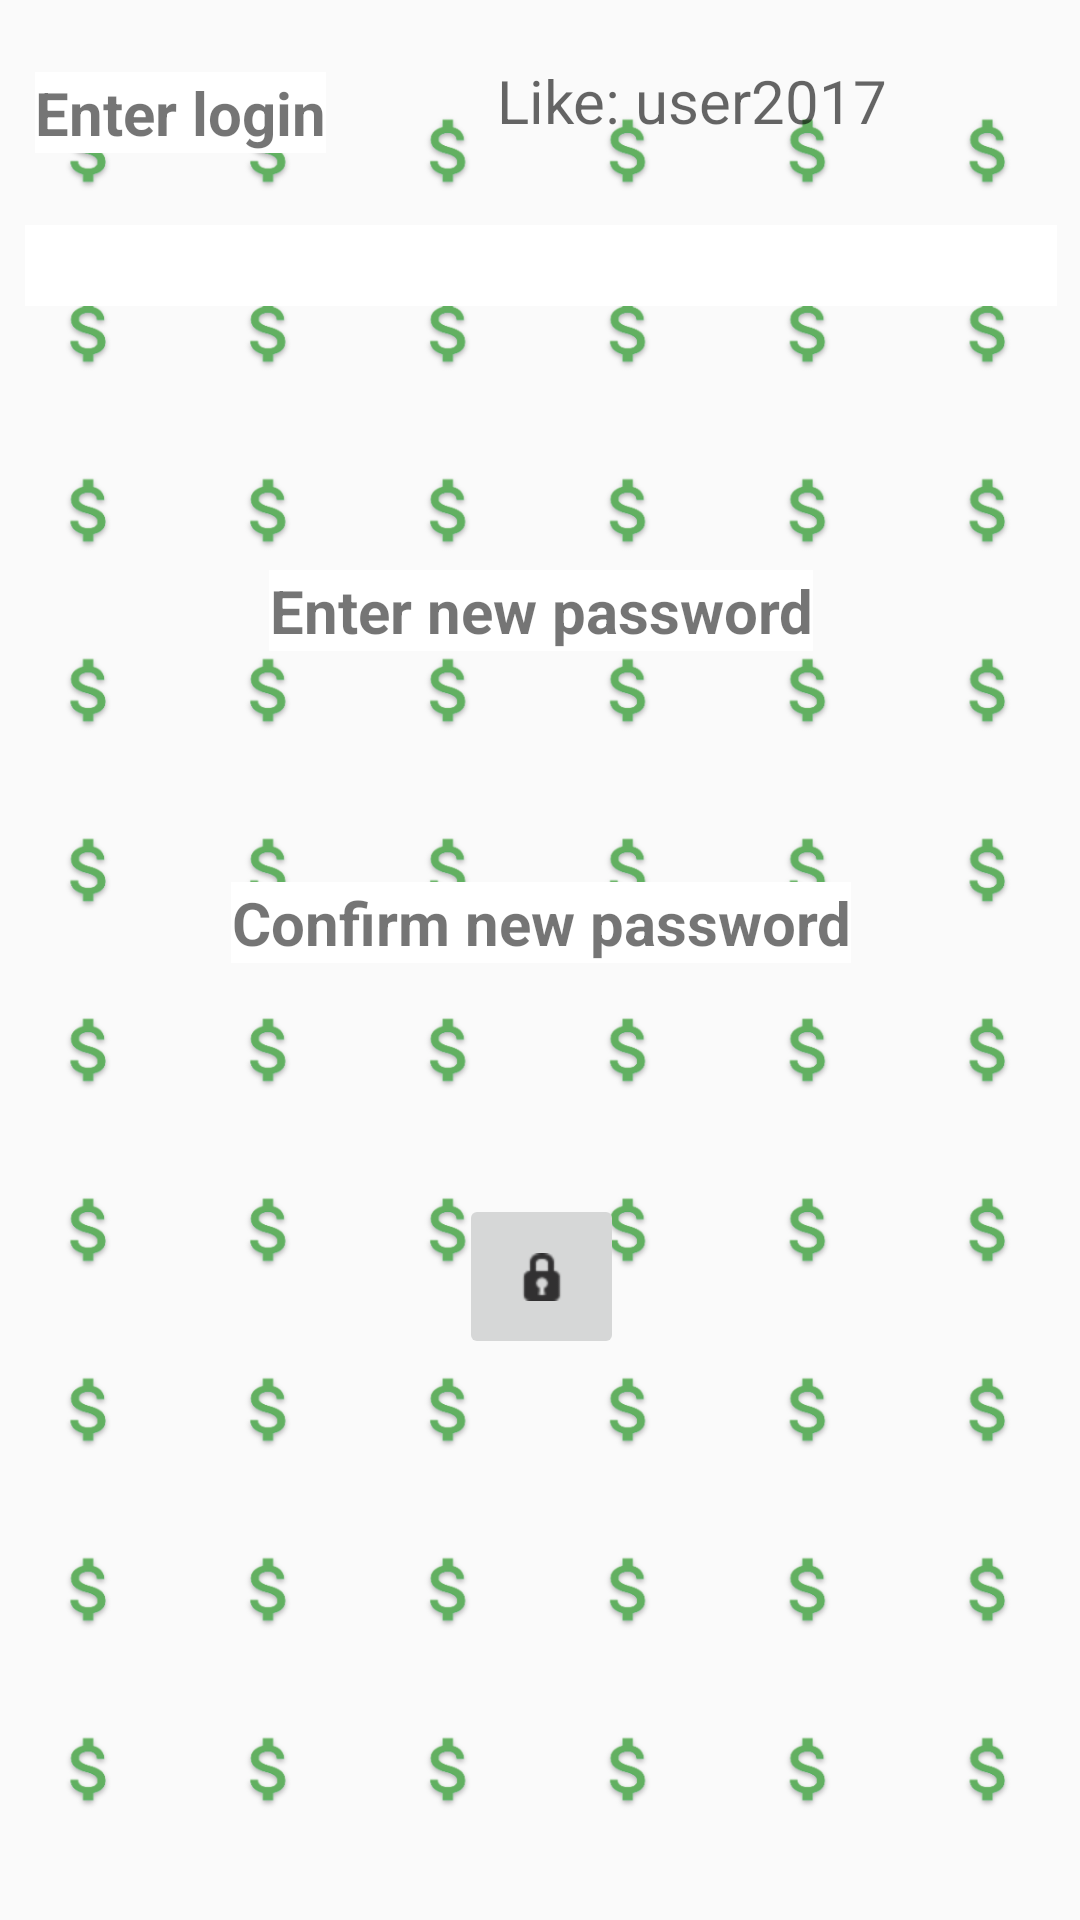

Named icons in this screenshot (1080×1920) and their bounding boxes, (x1, y1, x2, y2):
secure: (459, 1198, 624, 1341)
